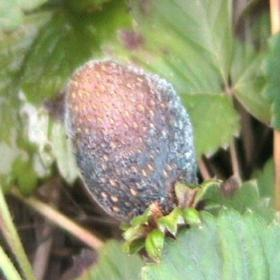Gray Mold: (64, 58, 198, 227)
